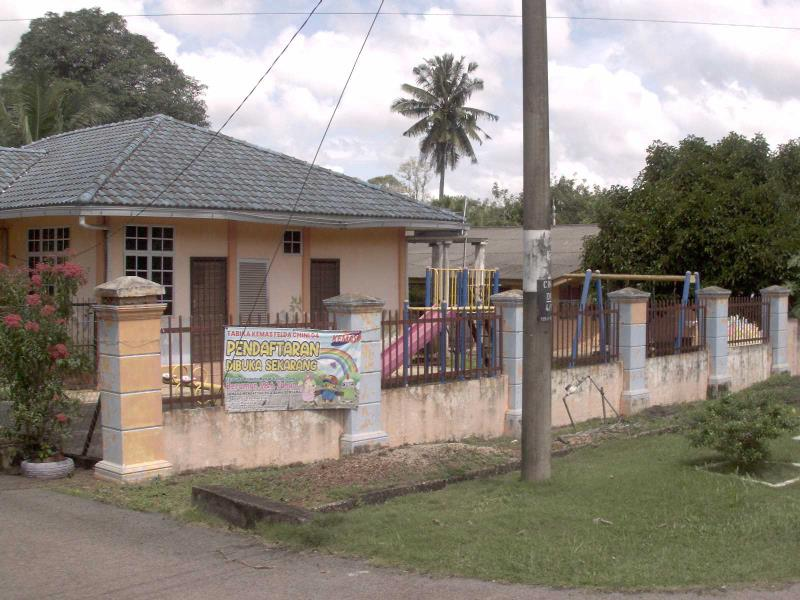ads_sign: (212, 318, 389, 422)
